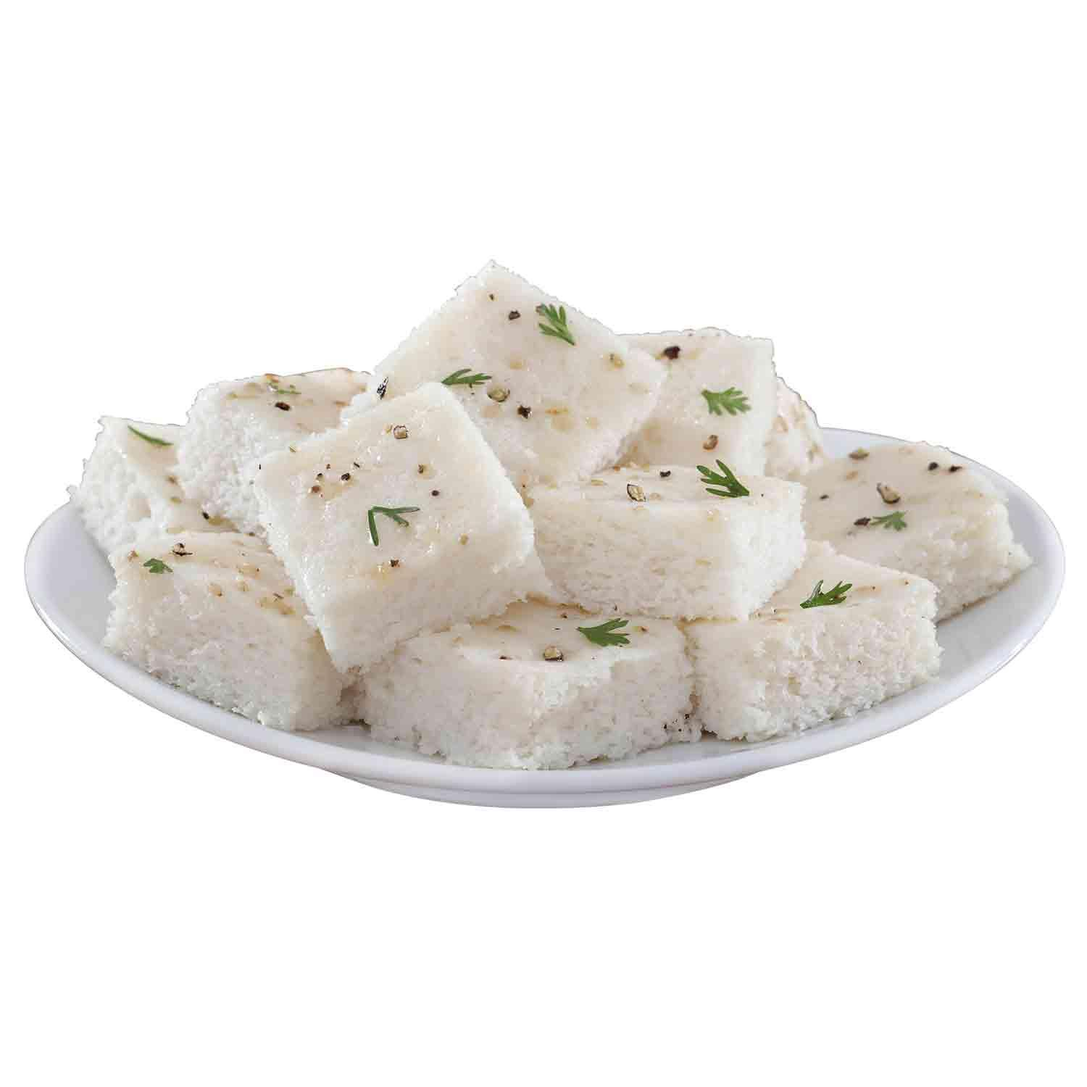dhokla: (83, 284, 1015, 742)
